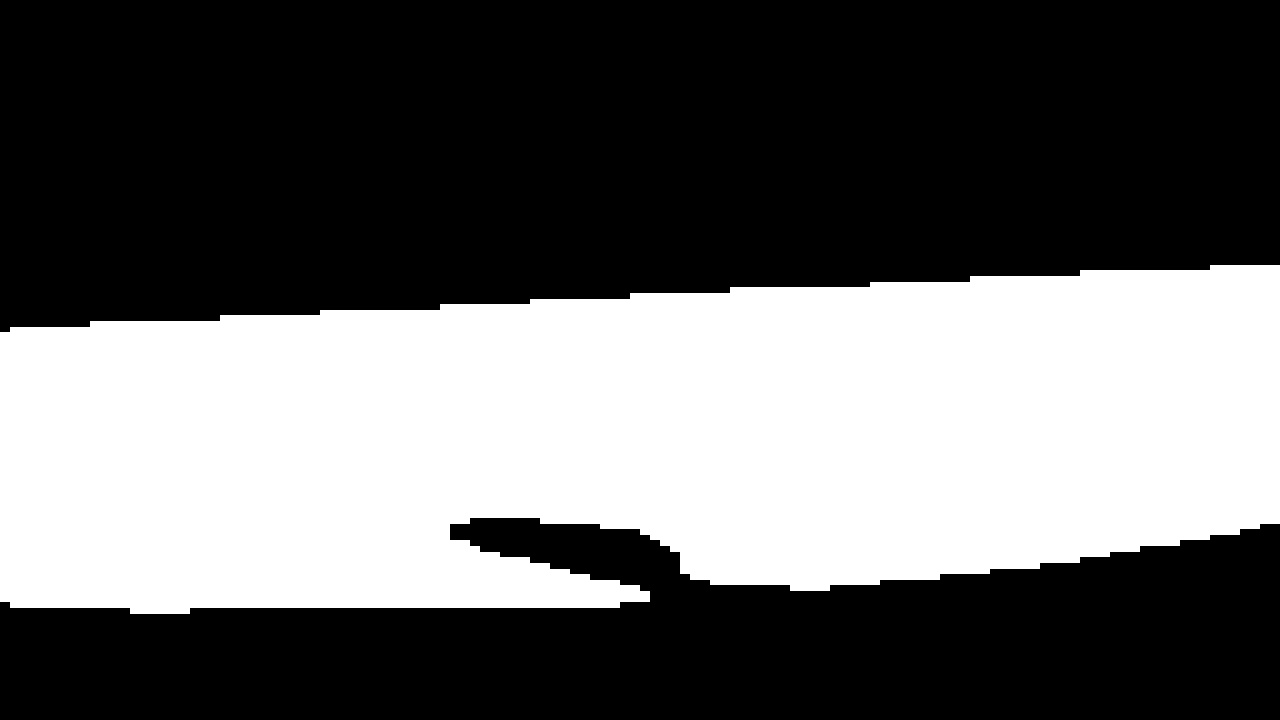Turbine: (16, 233, 1257, 632)
